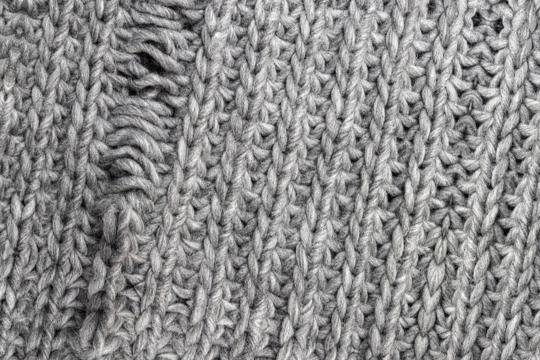slub: (84, 1, 197, 200)
